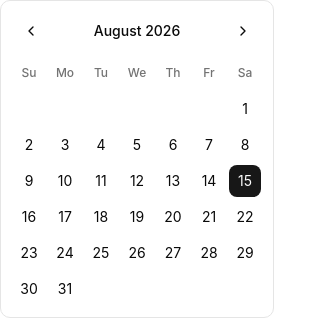
Test case: MultiDatePicker › navigates months
Click the button named "Next month": (243, 31) [225,13,261,49]
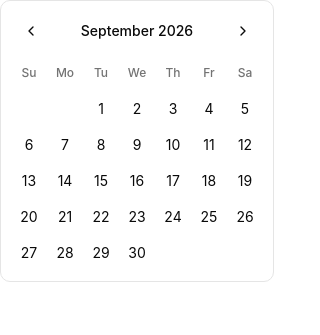
Now the text "September 2026" is shown, box [81,21,193,41]
Click the button named "Previous month": (31, 31) [13,13,49,49]
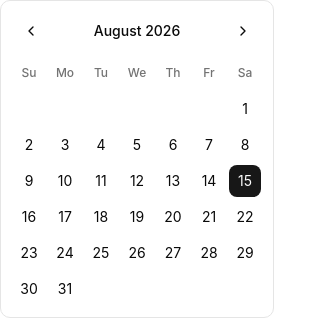
Click the button named "Previous month": (31, 31) [13,13,49,49]
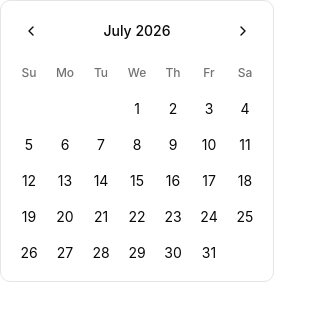
Now the text "July 2026" is shown, box [104,21,170,41]
